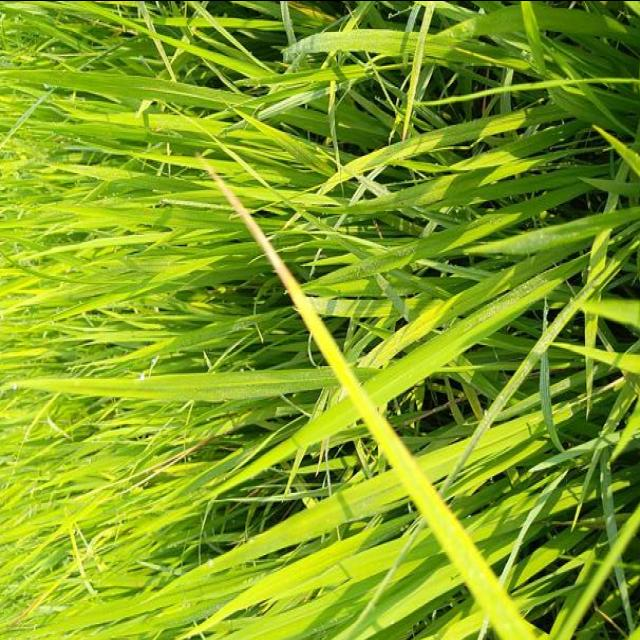Leaf Blight: (202, 155, 492, 616)
